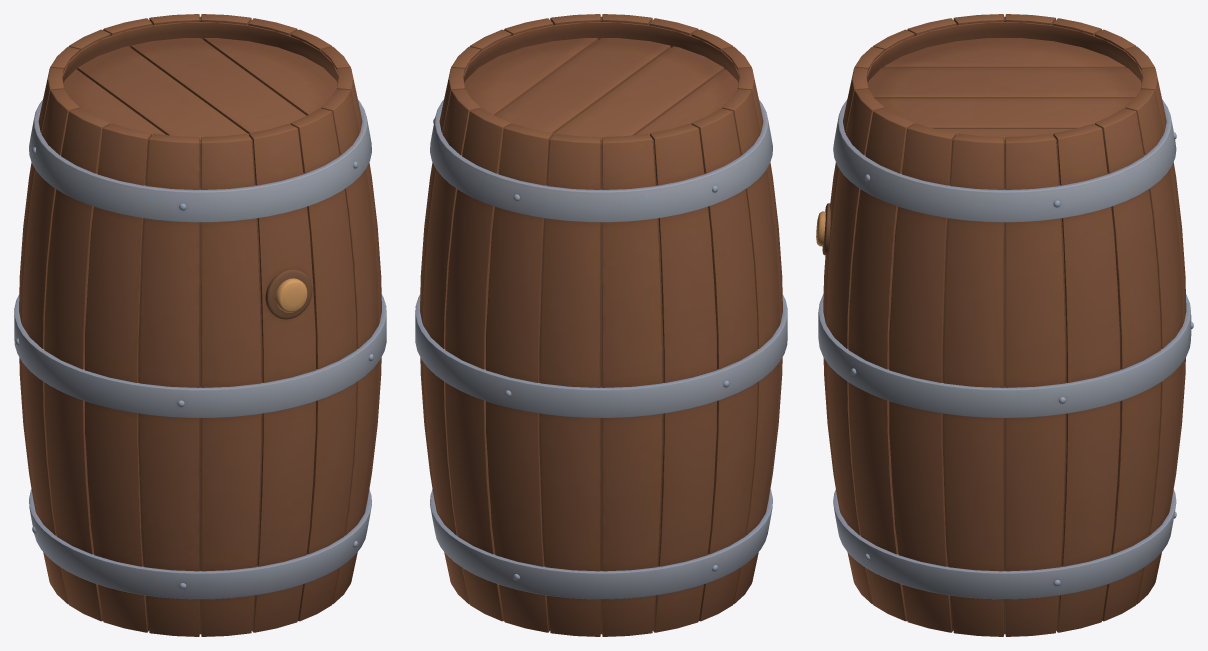
The model's file is old-barrel.glb.
3 views of the same model, side by side, from view 1: azimuth 30°, elevation 25°; view 2: azimuth 150°, elevation 25°; view 3: azimuth 270°, elevation 25° (orthographic).
Visible parts, largest first — view 1: old-barrel_body; view 2: old-barrel_body; view 3: old-barrel_body.
Part boxes in pixels (left/top/right/bottom): old-barrel_body: left=14, top=14, right=386, bottom=636; old-barrel_body: left=415, top=14, right=787, bottom=636; old-barrel_body: left=816, top=14, right=1193, bottom=636.
Size of the model in its own units: 0.615 by 0.9 by 0.6229.
Materials: 1 (1 with a texture image).
